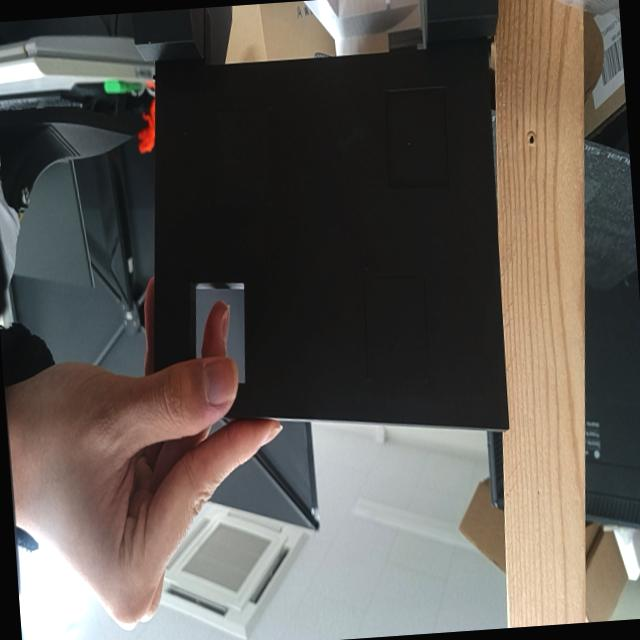Obstacle: (195, 281, 245, 383)
Wall: (155, 39, 509, 430)
